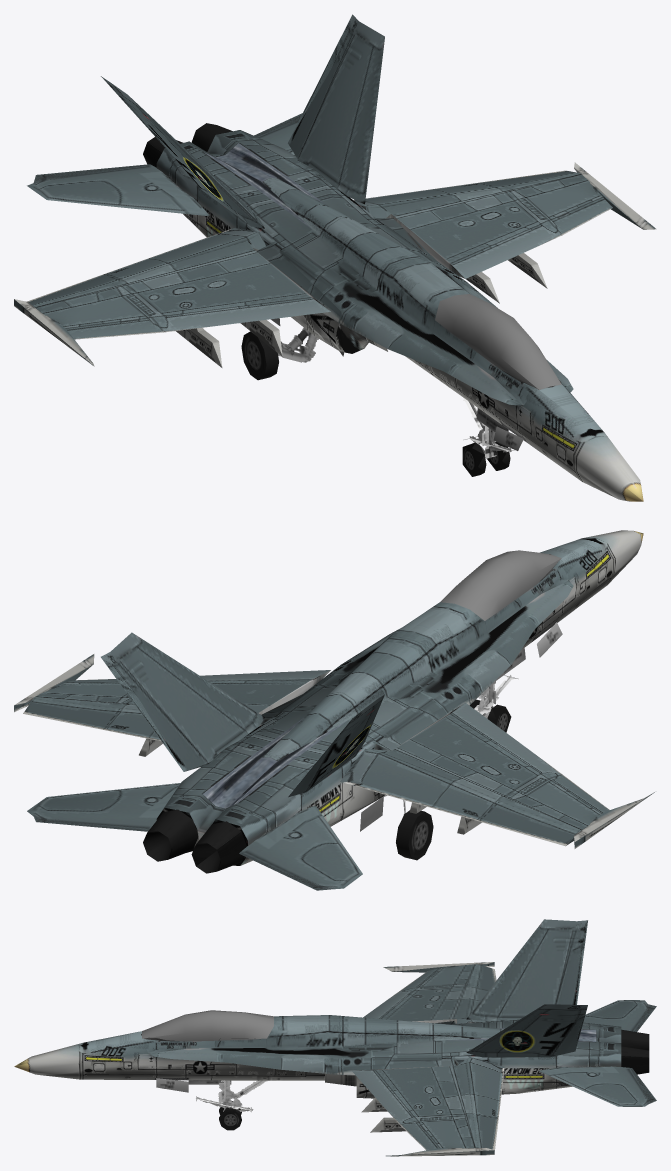
The picture shows the model from 3 angles, top to bottom: view 1: azimuth 30°, elevation 25°; view 2: azimuth 150°, elevation 25°; view 3: azimuth 270°, elevation 25°; orthographic projection. The views are drawn at different scales.
Parts seen in each view (by area): view 1: Object14; view 2: Object14; view 3: Object14.
Boxes of the visible parts, left/top/right/bottom form: Object14: left=14, top=14, right=656, bottom=501; Object14: left=14, top=530, right=654, bottom=890; Object14: left=14, top=919, right=656, bottom=1156.
Size of the model in its own units: 100 by 40.42 by 145.
3 materials, 2 textured.
